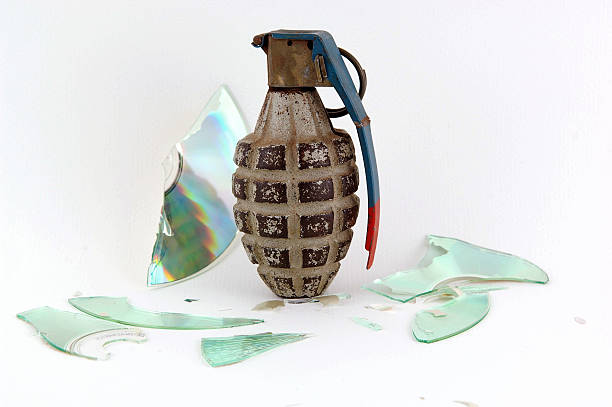e1: (232, 29, 379, 301)
